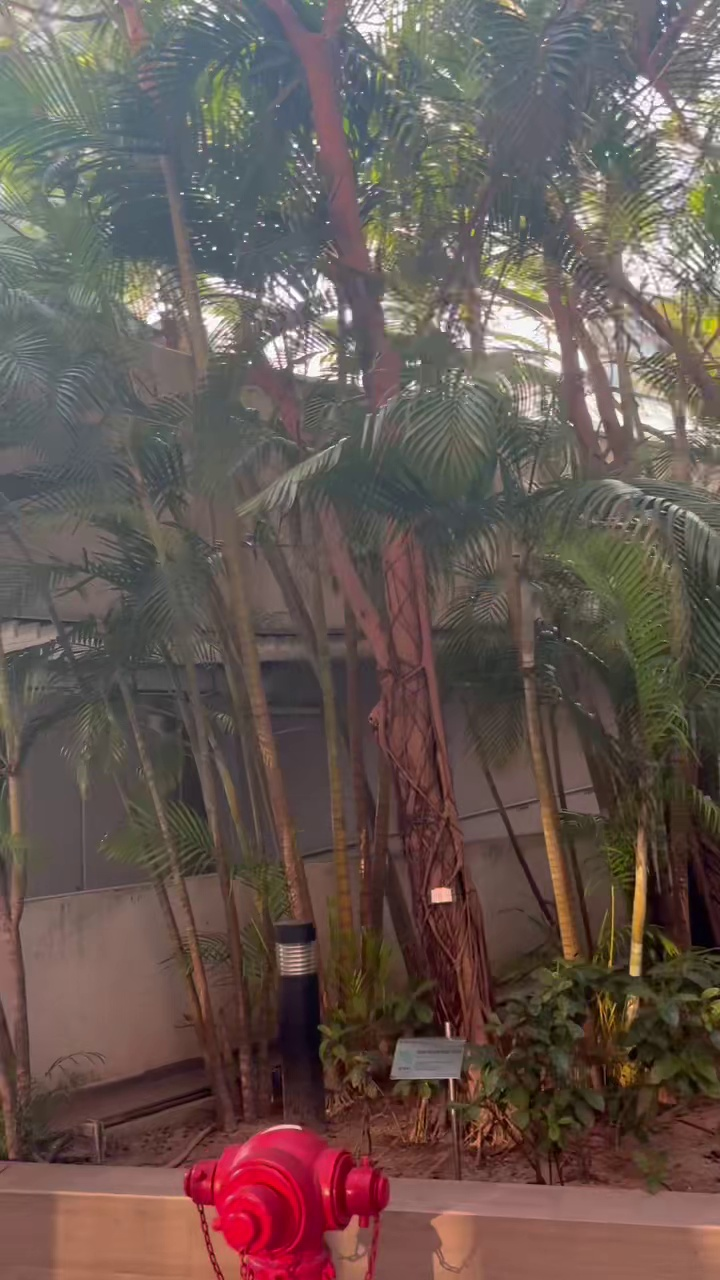Ficus benjamina: (267, 0, 490, 1043)
